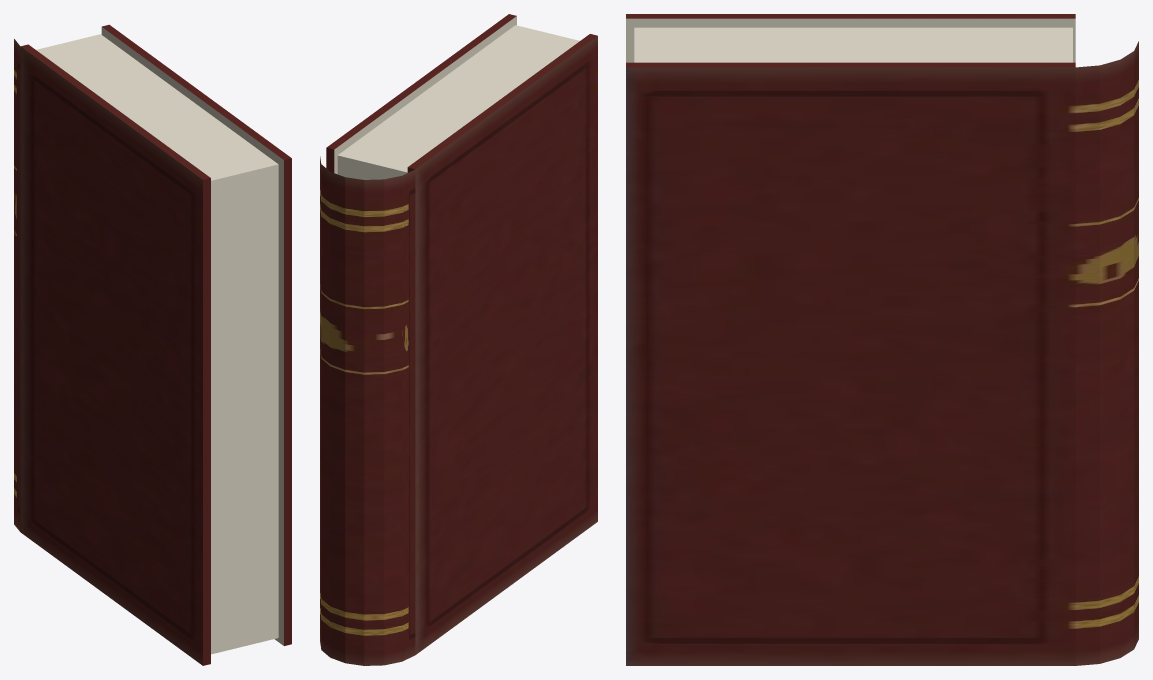
File: study_books.glb
3 views of the same model, side by side, from view 1: azimuth 30°, elevation 25°; view 2: azimuth 150°, elevation 25°; view 3: azimuth 270°, elevation 25° (orthographic). The views are drawn at different scales.
Parts seen in each view (by area): view 1: Book_0, FrontCover; view 2: Book_0, FrontCover; view 3: FrontCover, Book_0.
Part boxes in pixels (bbox=[...]): Book_0: bbox=[14, 34, 278, 665]; FrontCover: bbox=[101, 24, 291, 645]; Book_0: bbox=[320, 25, 597, 665]; FrontCover: bbox=[326, 14, 516, 174]; FrontCover: bbox=[626, 62, 1075, 665]; Book_0: bbox=[626, 14, 1138, 665].
Size of the model in its own units: 0.045 by 0.235 by 0.1825.
2 materials, 1 textured.
